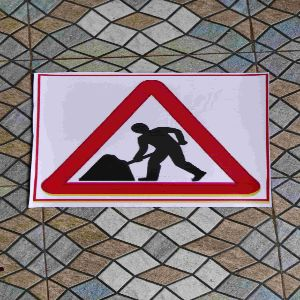men at work: (32, 72, 271, 204)
